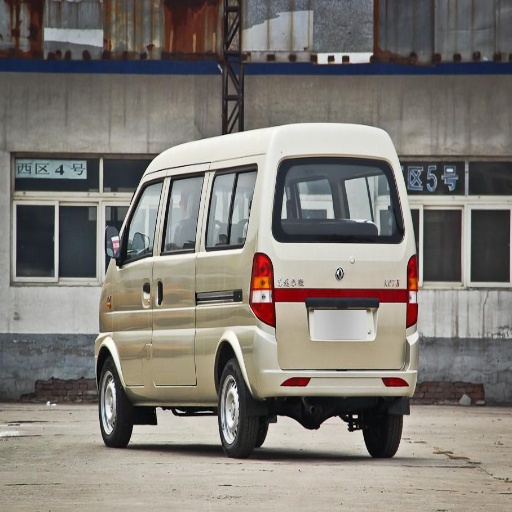back_bumper: (253, 328, 417, 396)
back_glass: (278, 159, 400, 240)
back_left_door: (166, 171, 205, 225)
back_left_light: (249, 259, 274, 325)
trunk: (116, 245, 408, 397)
